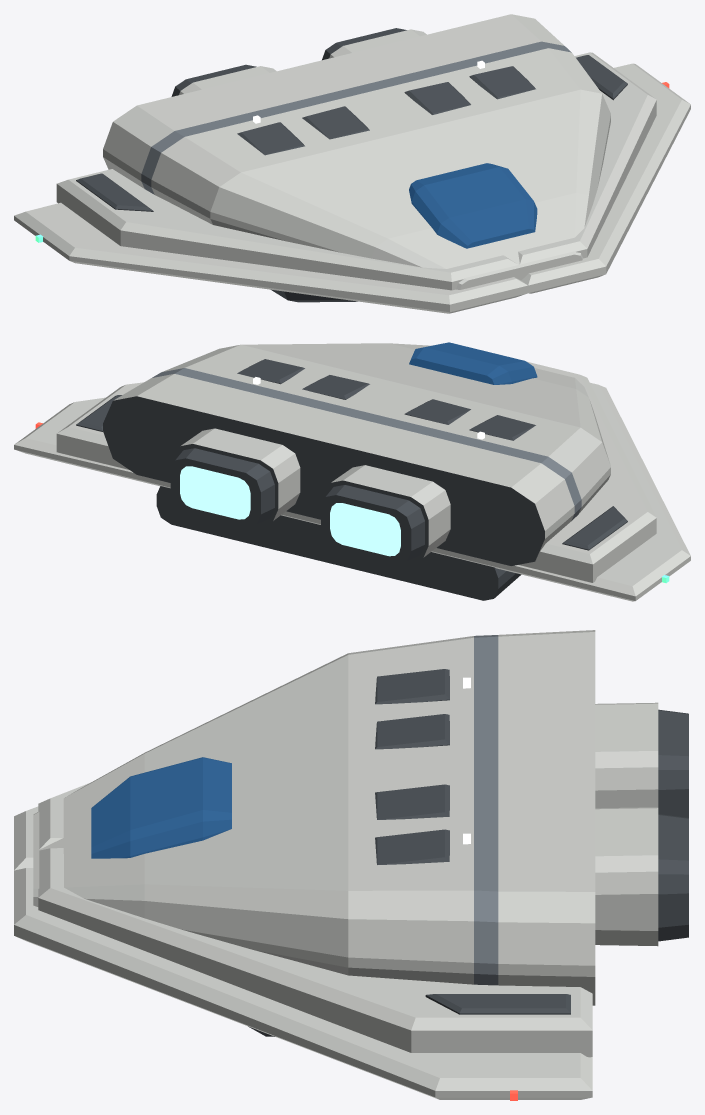
Rendered from cobra-mk3.glb.
3 views of the same model, one above another, from view 1: azimuth 30°, elevation 25°; view 2: azimuth 150°, elevation 25°; view 3: azimuth 270°, elevation 25° (orthographic). The views are drawn at different scales.
Visible parts, largest first — view 1: cobra-mk3; view 2: cobra-mk3; view 3: cobra-mk3.
Boxes of the visible parts, x1,y1,x2,y2 form: cobra-mk3: (14, 14, 690, 313); cobra-mk3: (14, 342, 690, 601); cobra-mk3: (14, 630, 688, 1100).
Size of the model in its own units: 42.8 by 8.51 by 27.95.
